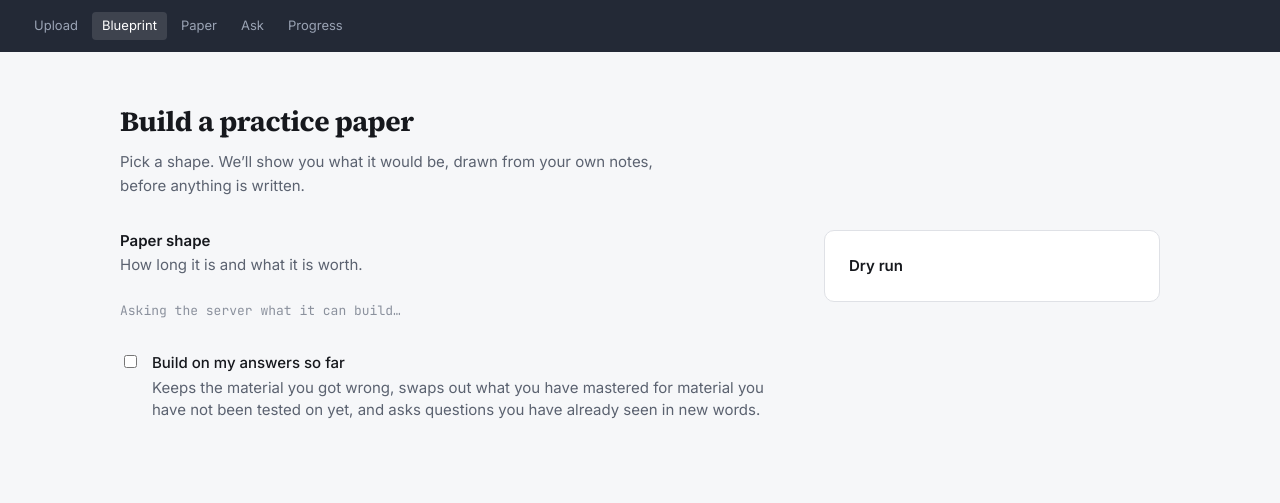
Test: taking a paper › opens the progress tab
Click the button "Progress": (315, 26) [278,12,353,40]
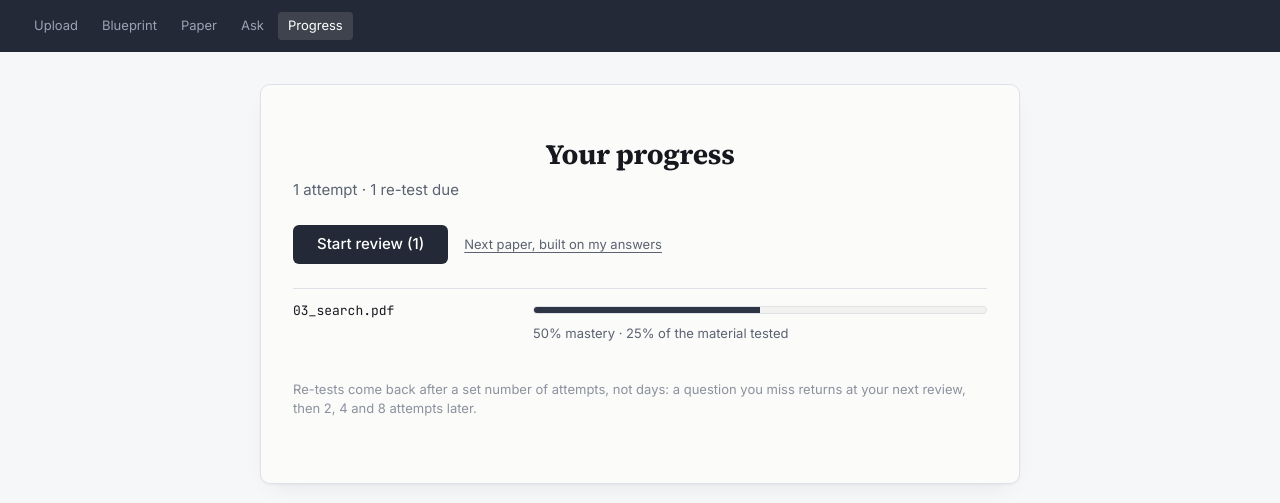
Now the text "50% mastery · 25% of the material tested" is shown, box [533,325,788,341]
